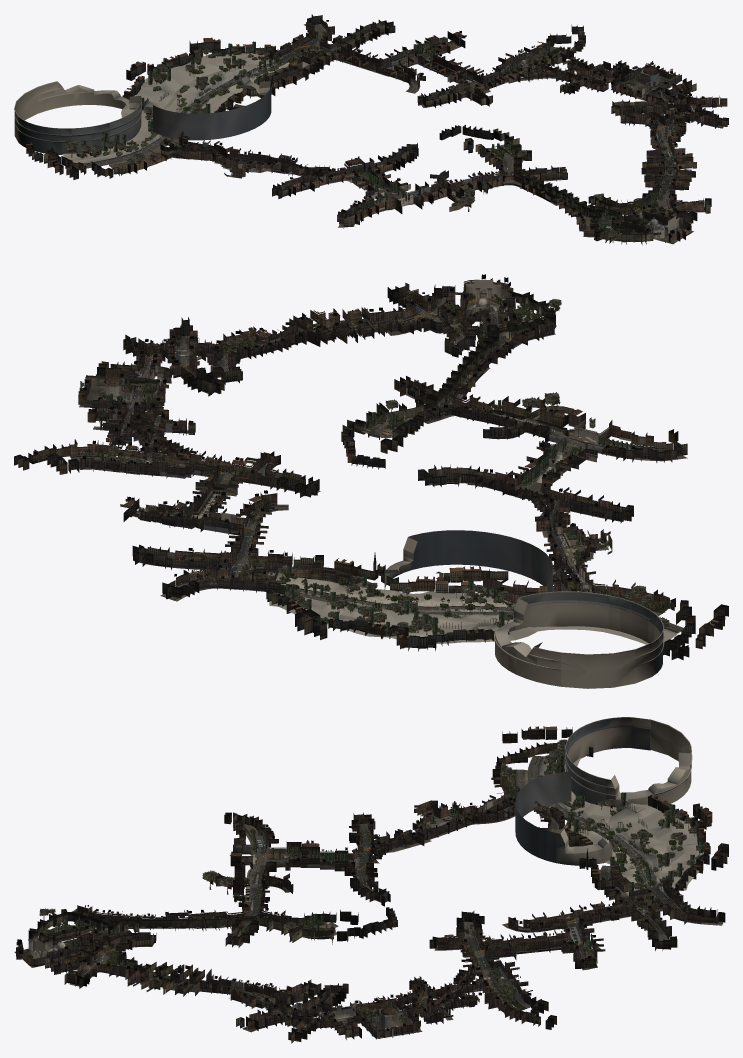
Rendered from burnout_eternal_city.glb.
3 views of the same model, one above another, from view 1: azimuth 30°, elevation 25°; view 2: azimuth 150°, elevation 25°; view 3: azimuth 270°, elevation 25° (orthographic). The views are drawn at different scales.
Parts seen in each view (by area): view 1: backdrop_grp_017_mdl_000_sub_000_material_121_0, backdrop_grp_000_mdl_000_sub_000_material_120_0, unit_002_sub_033_material_048_0, unit_000_inst_000_mdl_001_lod_000_material_126_0, unit_003_sub_030_material_054_0, unit_009_inst_052_mdl_055_lod_000_material_150_0, unit_000_inst_033_mdl_057_lod_000_material_151_0, unit_002_sub_036_material_049_0, backdrop_grp_005_mdl_000_sub_000_material_018_0, unit_000_sub_022_material_022_0, backdrop_grp_006_mdl_000_sub_000_material_019_0, unit_000_sub_021_material_021_0 (+18 smaller); view 2: backdrop_grp_017_mdl_000_sub_000_material_121_0, backdrop_grp_000_mdl_000_sub_000_material_120_0, unit_002_sub_033_material_048_0, unit_000_inst_000_mdl_001_lod_000_material_126_0, unit_000_sub_022_material_022_0, unit_003_sub_030_material_054_0, unit_000_sub_021_material_021_0, backdrop_grp_006_mdl_000_sub_000_material_019_0, backdrop_grp_005_mdl_000_sub_000_material_018_0, unit_002_sub_036_material_049_0, unit_009_inst_052_mdl_055_lod_000_material_150_0, unit_000_inst_033_mdl_057_lod_000_material_151_0 (+19 smaller); view 3: backdrop_grp_017_mdl_000_sub_000_material_121_0, backdrop_grp_000_mdl_000_sub_000_material_120_0, unit_002_sub_033_material_048_0, unit_000_inst_000_mdl_001_lod_000_material_126_0, unit_003_sub_030_material_054_0, unit_000_inst_033_mdl_057_lod_000_material_151_0, unit_002_sub_036_material_049_0, unit_009_inst_052_mdl_055_lod_000_material_150_0, backdrop_grp_005_mdl_000_sub_000_material_018_0, backdrop_grp_006_mdl_000_sub_000_material_019_0, unit_000_sub_022_material_022_0, unit_000_sub_014_material_014_0 (+18 smaller).
Part boxes in pixels (x1,y1,x2,y2): backdrop_grp_017_mdl_000_sub_000_material_121_0: (14,44,694,238); backdrop_grp_000_mdl_000_sub_000_material_120_0: (26,14,728,228); unit_002_sub_033_material_048_0: (182,28,702,241); unit_000_inst_000_mdl_001_lod_000_material_126_0: (76,30,709,242); unit_003_sub_030_material_054_0: (179,31,713,239); unit_009_inst_052_mdl_055_lod_000_material_150_0: (65,37,678,242); unit_000_inst_033_mdl_057_lod_000_material_151_0: (81,41,660,234); unit_002_sub_036_material_049_0: (182,21,695,239); backdrop_grp_005_mdl_000_sub_000_material_018_0: (165,33,693,233); unit_000_sub_022_material_022_0: (149,40,616,204); backdrop_grp_006_mdl_000_sub_000_material_019_0: (178,38,714,229); unit_000_sub_021_material_021_0: (181,18,701,231); backdrop_grp_017_mdl_000_sub_000_material_121_0: (80,279,677,688); backdrop_grp_000_mdl_000_sub_000_material_120_0: (14,282,728,660); unit_002_sub_033_material_048_0: (78,286,607,595); unit_000_inst_000_mdl_001_lod_000_material_126_0: (82,288,670,630); unit_000_sub_022_material_022_0: (106,396,631,594); unit_003_sub_030_material_054_0: (87,279,620,594); unit_000_sub_021_material_021_0: (82,292,618,594); backdrop_grp_006_mdl_000_sub_000_material_019_0: (79,286,610,600); backdrop_grp_005_mdl_000_sub_000_material_018_0: (77,298,605,593); unit_002_sub_036_material_049_0: (84,278,595,585); unit_009_inst_052_mdl_055_lod_000_material_150_0: (96,299,669,635); unit_000_inst_033_mdl_057_lod_000_material_151_0: (100,303,632,636); backdrop_grp_017_mdl_000_sub_000_material_121_0: (28,717,703,1037); backdrop_grp_000_mdl_000_sub_000_material_120_0: (45,726,728,1043); unit_002_sub_033_material_048_0: (18,799,697,1031); unit_000_inst_000_mdl_001_lod_000_material_126_0: (24,755,690,1029); unit_003_sub_030_material_054_0: (16,795,683,1035); unit_000_inst_033_mdl_057_lod_000_material_151_0: (48,749,703,1023); unit_002_sub_036_material_049_0: (16,795,701,1037); unit_009_inst_052_mdl_055_lod_000_material_150_0: (39,739,702,1026); backdrop_grp_005_mdl_000_sub_000_material_018_0: (48,788,685,1030); backdrop_grp_006_mdl_000_sub_000_material_019_0: (47,799,599,1031); unit_000_sub_022_material_022_0: (230,778,628,1014); unit_000_sub_014_material_014_0: (17,797,700,1030).
Size of the model in its own units: 33.4 by 1.9 by 32.01.
Materials: 100 (99 with a texture image).
